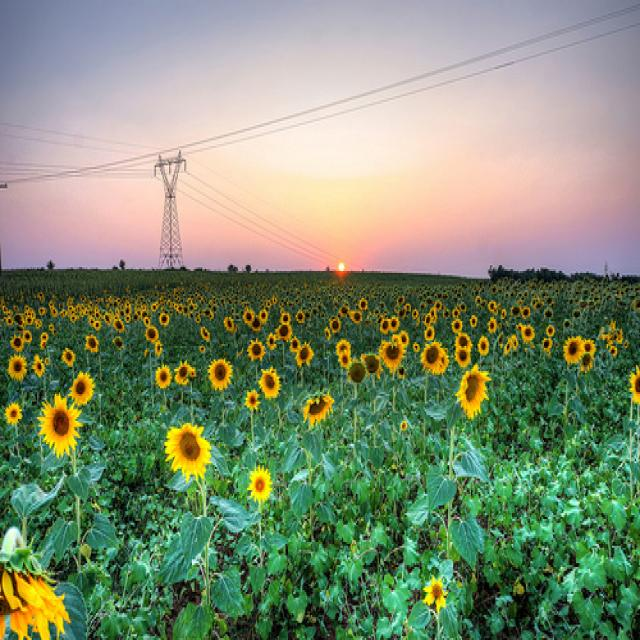sunflower: (0, 526, 74, 640), (35, 392, 84, 462), (164, 424, 213, 479), (456, 365, 491, 420), (242, 461, 275, 505), (302, 391, 335, 428), (203, 357, 234, 396), (64, 372, 98, 406), (257, 365, 284, 406), (561, 330, 586, 373), (6, 349, 32, 387), (379, 342, 404, 373), (244, 335, 268, 367), (422, 340, 443, 376), (174, 359, 197, 390), (3, 400, 27, 428), (361, 349, 382, 378), (345, 358, 368, 384), (153, 360, 172, 390), (296, 341, 316, 367), (60, 348, 80, 370), (274, 322, 294, 343), (83, 332, 101, 355), (143, 325, 161, 344), (327, 316, 342, 335), (377, 318, 392, 334)
